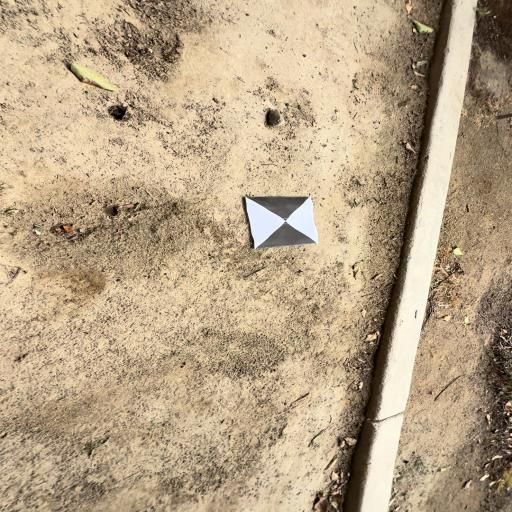target: (247, 197, 317, 249)
